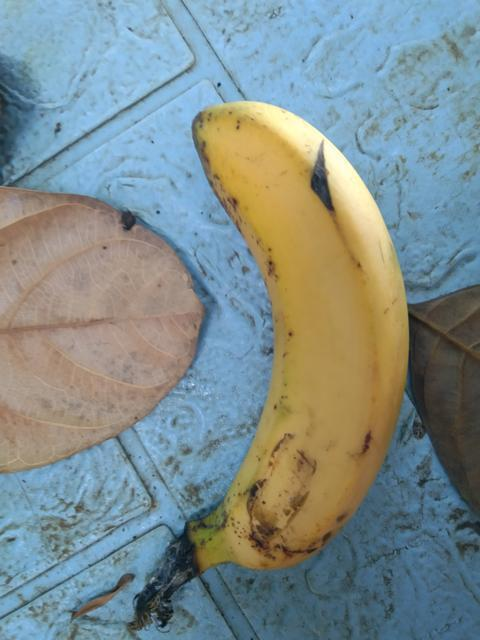ripe: (161, 94, 436, 590)
